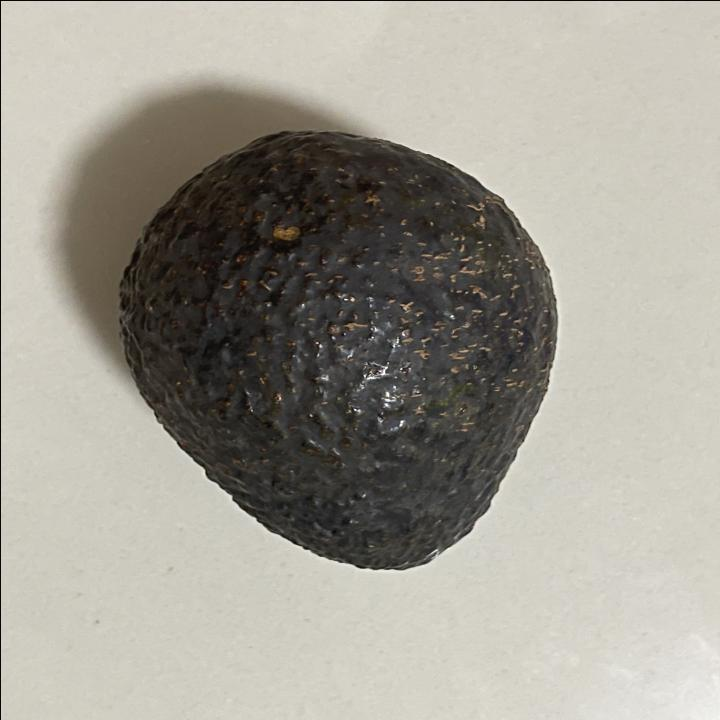Level3: (107, 123, 571, 581)
